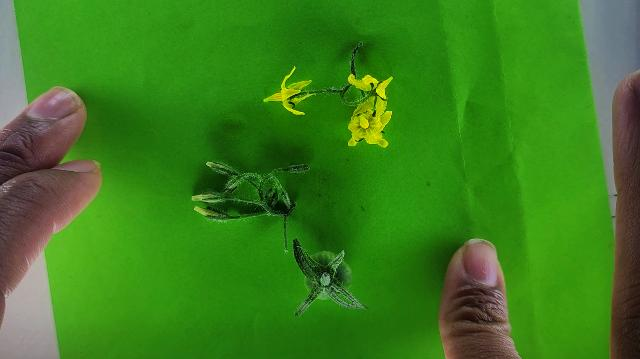Anthesis: (347, 90, 393, 149), (262, 65, 315, 116), (348, 72, 392, 100)
Flower Bud: (205, 161, 241, 178), (272, 163, 310, 173), (192, 193, 222, 201)
Fruit Maturation: (303, 247, 356, 299)
